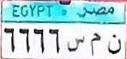6: (3, 26, 18, 54), (19, 26, 32, 55), (33, 27, 46, 55), (49, 27, 61, 55)
meem: (87, 31, 102, 57)
noon: (105, 31, 123, 55)
seen: (64, 32, 86, 54)
